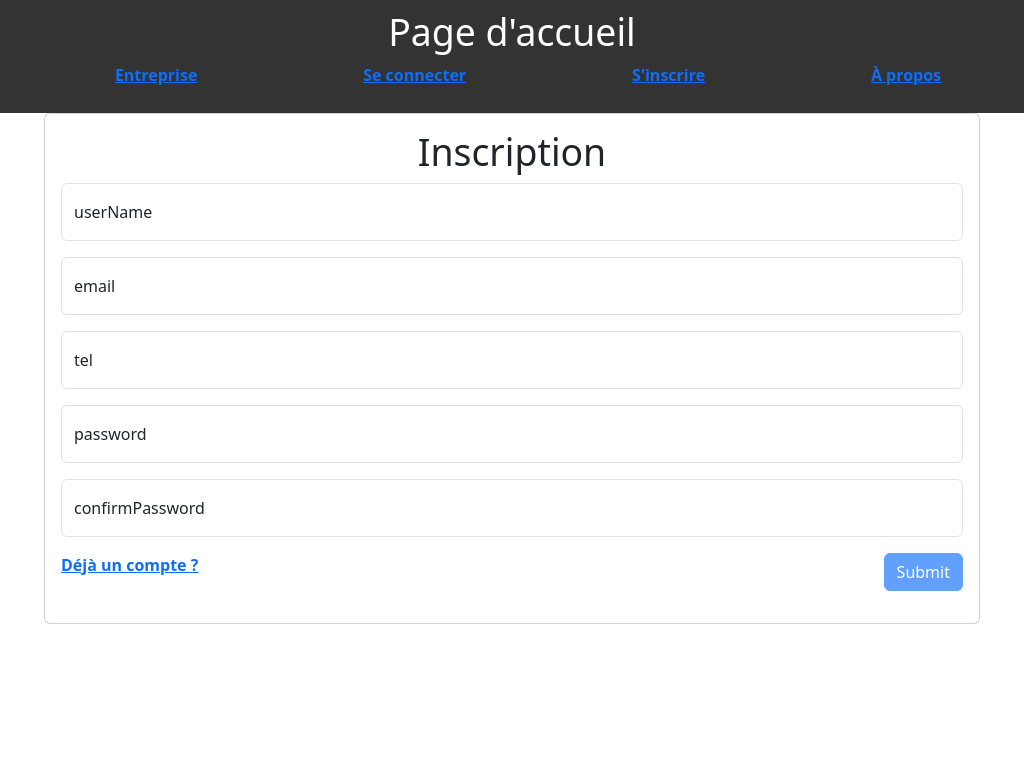
Scenario: Register test › Register › should input confirmPassword is correctly filled
Type "admin" into the field named "userName" at (512, 212), box [61, 183, 963, 241]
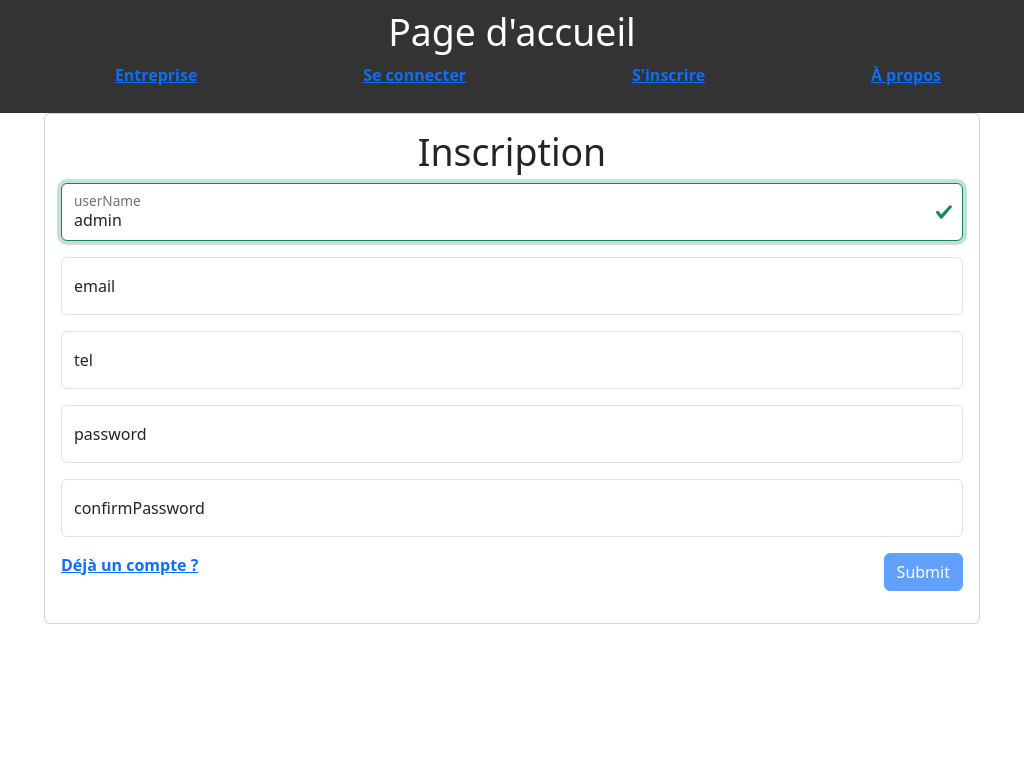
Type "admin@admin.com" into the field named "email" at (512, 286), box [61, 257, 963, 315]
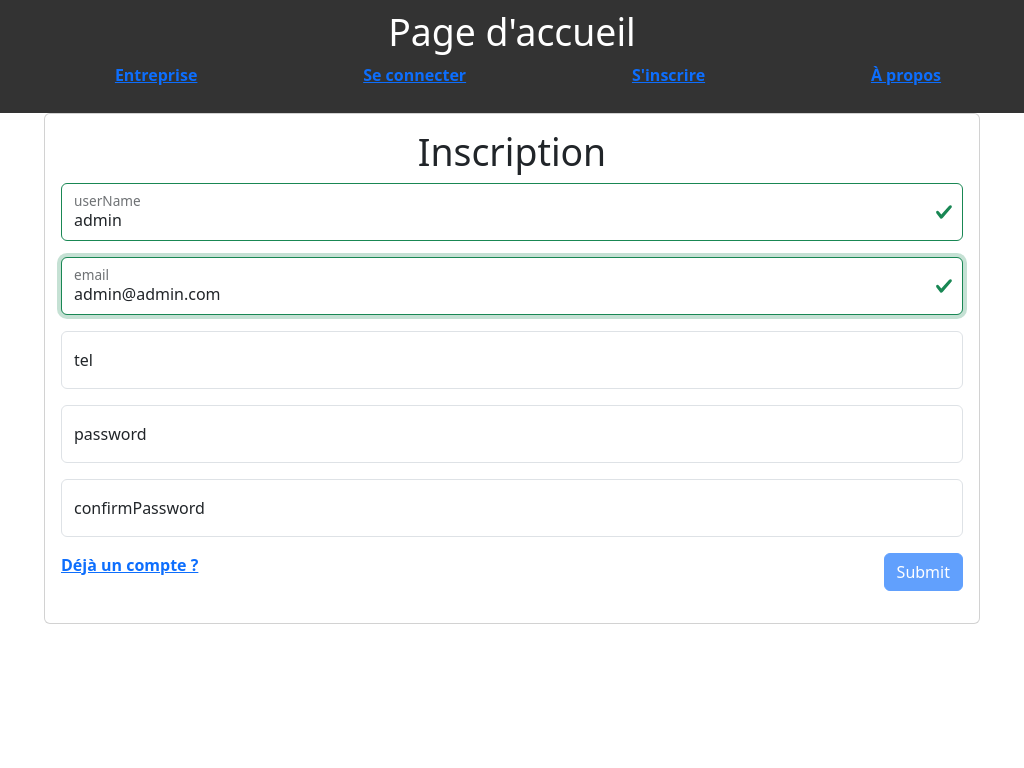
Type "0401020304" into the field named "tel" at (512, 360), box [61, 331, 963, 389]
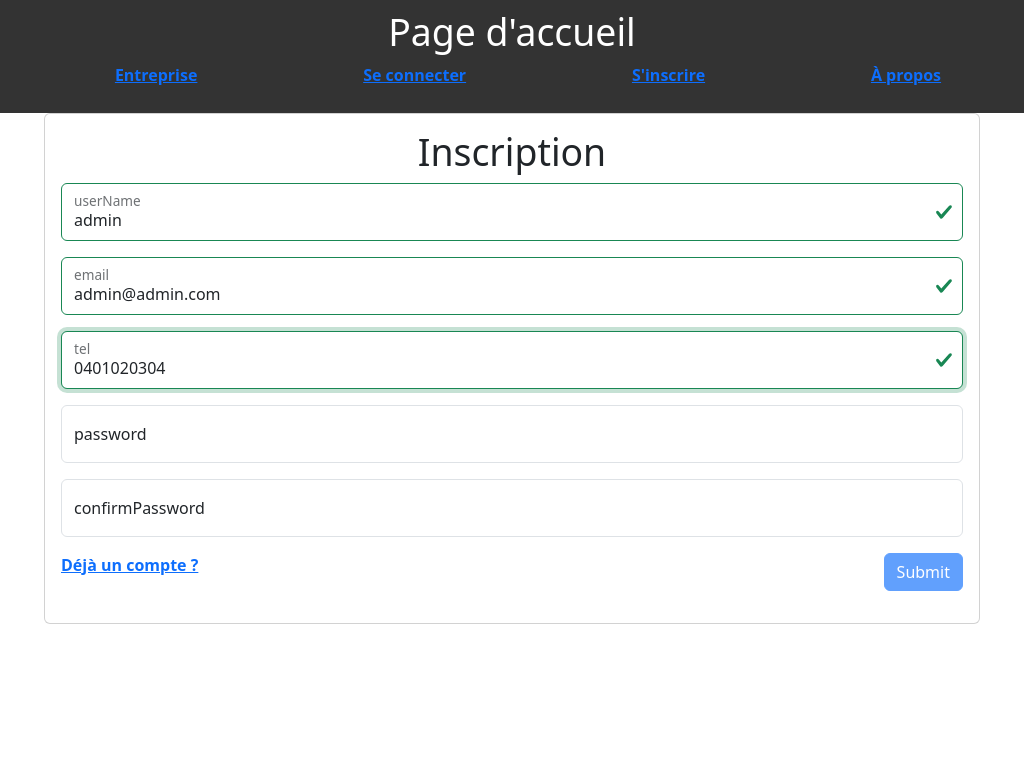
Type "Admin12!" into the password field named "password" at (512, 434), box [61, 405, 963, 463]
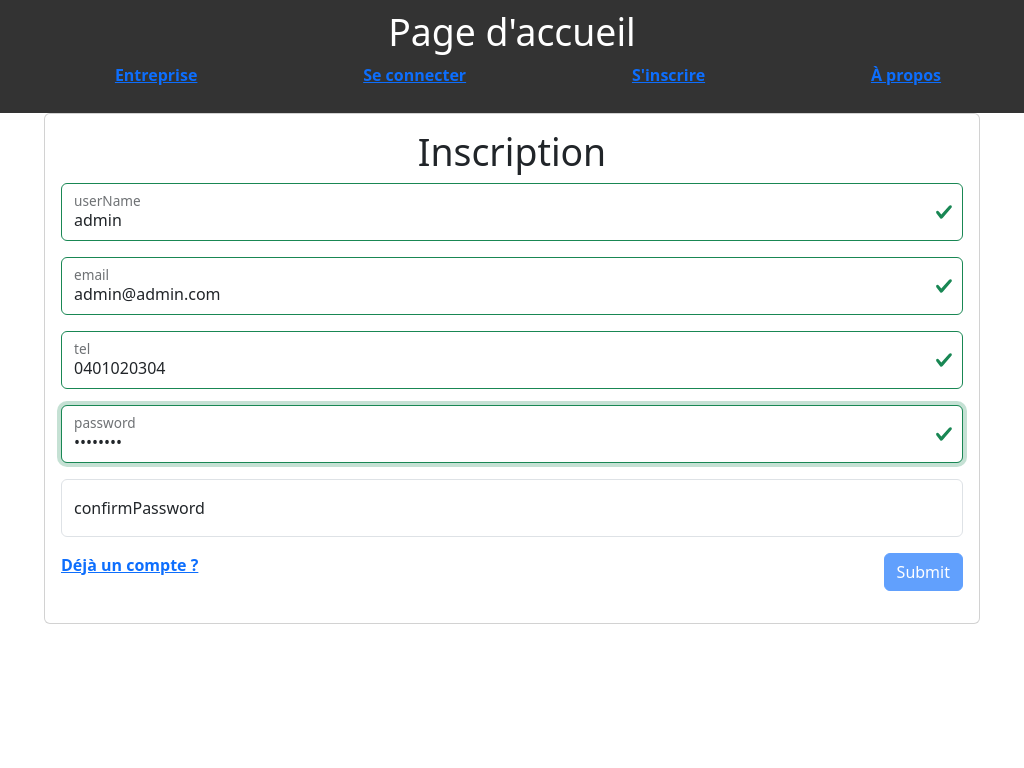
Type "Admn12!" into the password field named "confirmPassword" at (512, 508), box [61, 479, 963, 537]
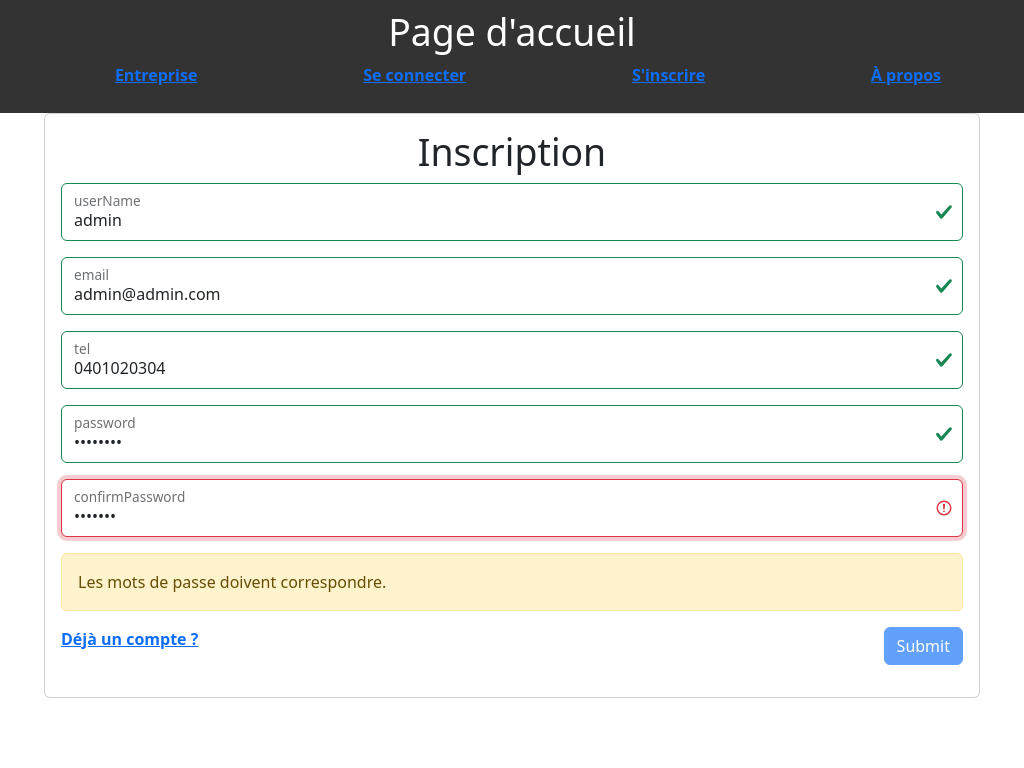
Expected: the text "Les mots de passe doivent correspondre." is shown, [61, 553, 963, 611]
